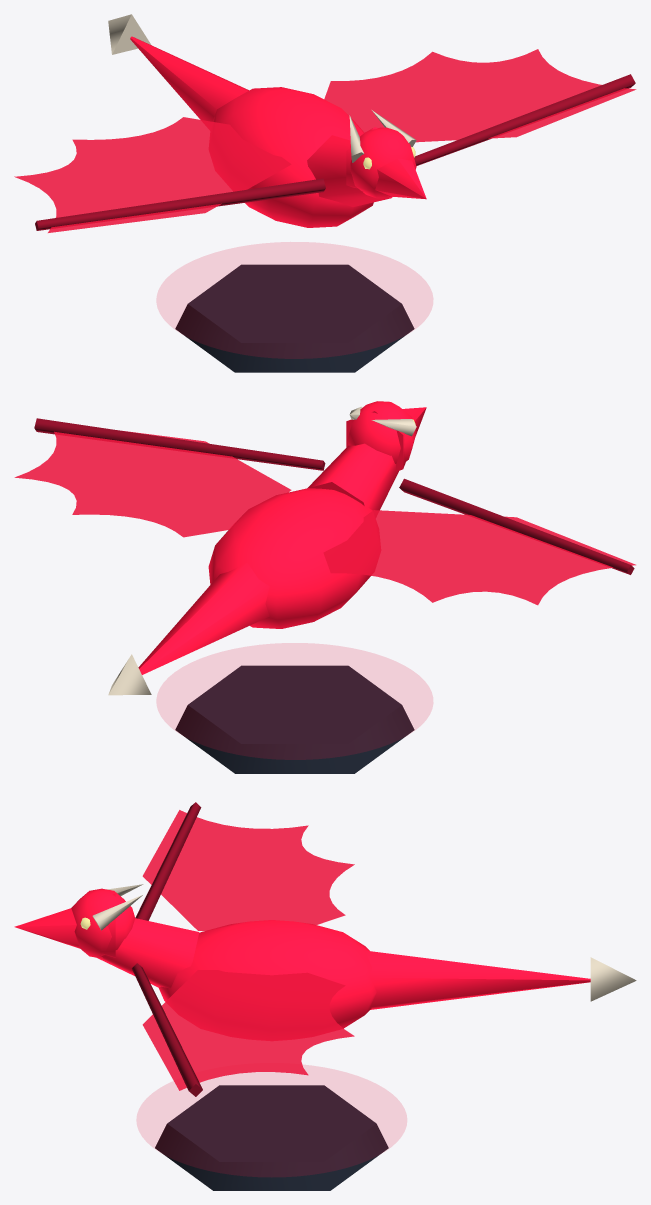
File: 3-dragao-trovejante-anciao.glb
3 views of the same model, one above another, from view 1: azimuth 30°, elevation 25°; view 2: azimuth 150°, elevation 25°; view 3: azimuth 270°, elevation 25° (orthographic). The views are drawn at different scales.
Bounding box in the file's own units: 5.46 × 2.32 × 5.06.
